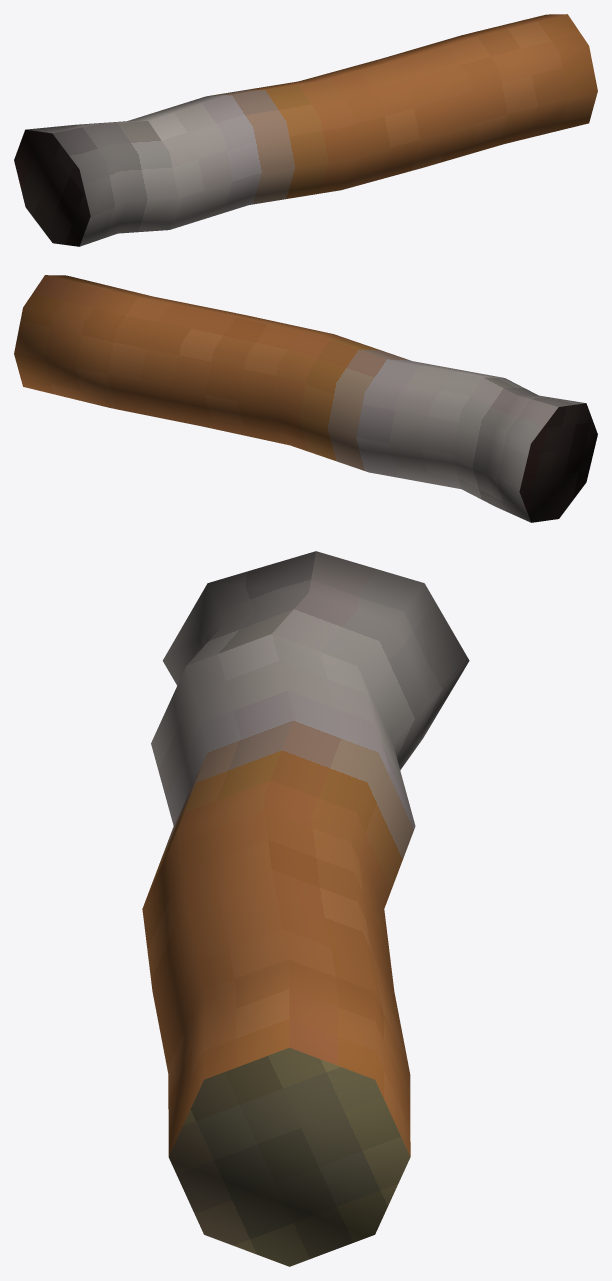
The model's file is cig_3.obj.
3 renders of one model, top to bottom at view 1: azimuth 30°, elevation 25°; view 2: azimuth 150°, elevation 25°; view 3: azimuth 270°, elevation 25°, orthographic. The views are drawn at different scales.
Parts seen in each view (by area): view 1: cig_3; view 2: cig_3; view 3: cig_3.
Boxes of the visible parts, x1,y1,x2,y2 form: cig_3: (14, 14, 597, 246); cig_3: (14, 275, 597, 522); cig_3: (142, 551, 469, 1266).
Bounding box in the file's own units: 0.0729 × 0.015 × 0.0203.
